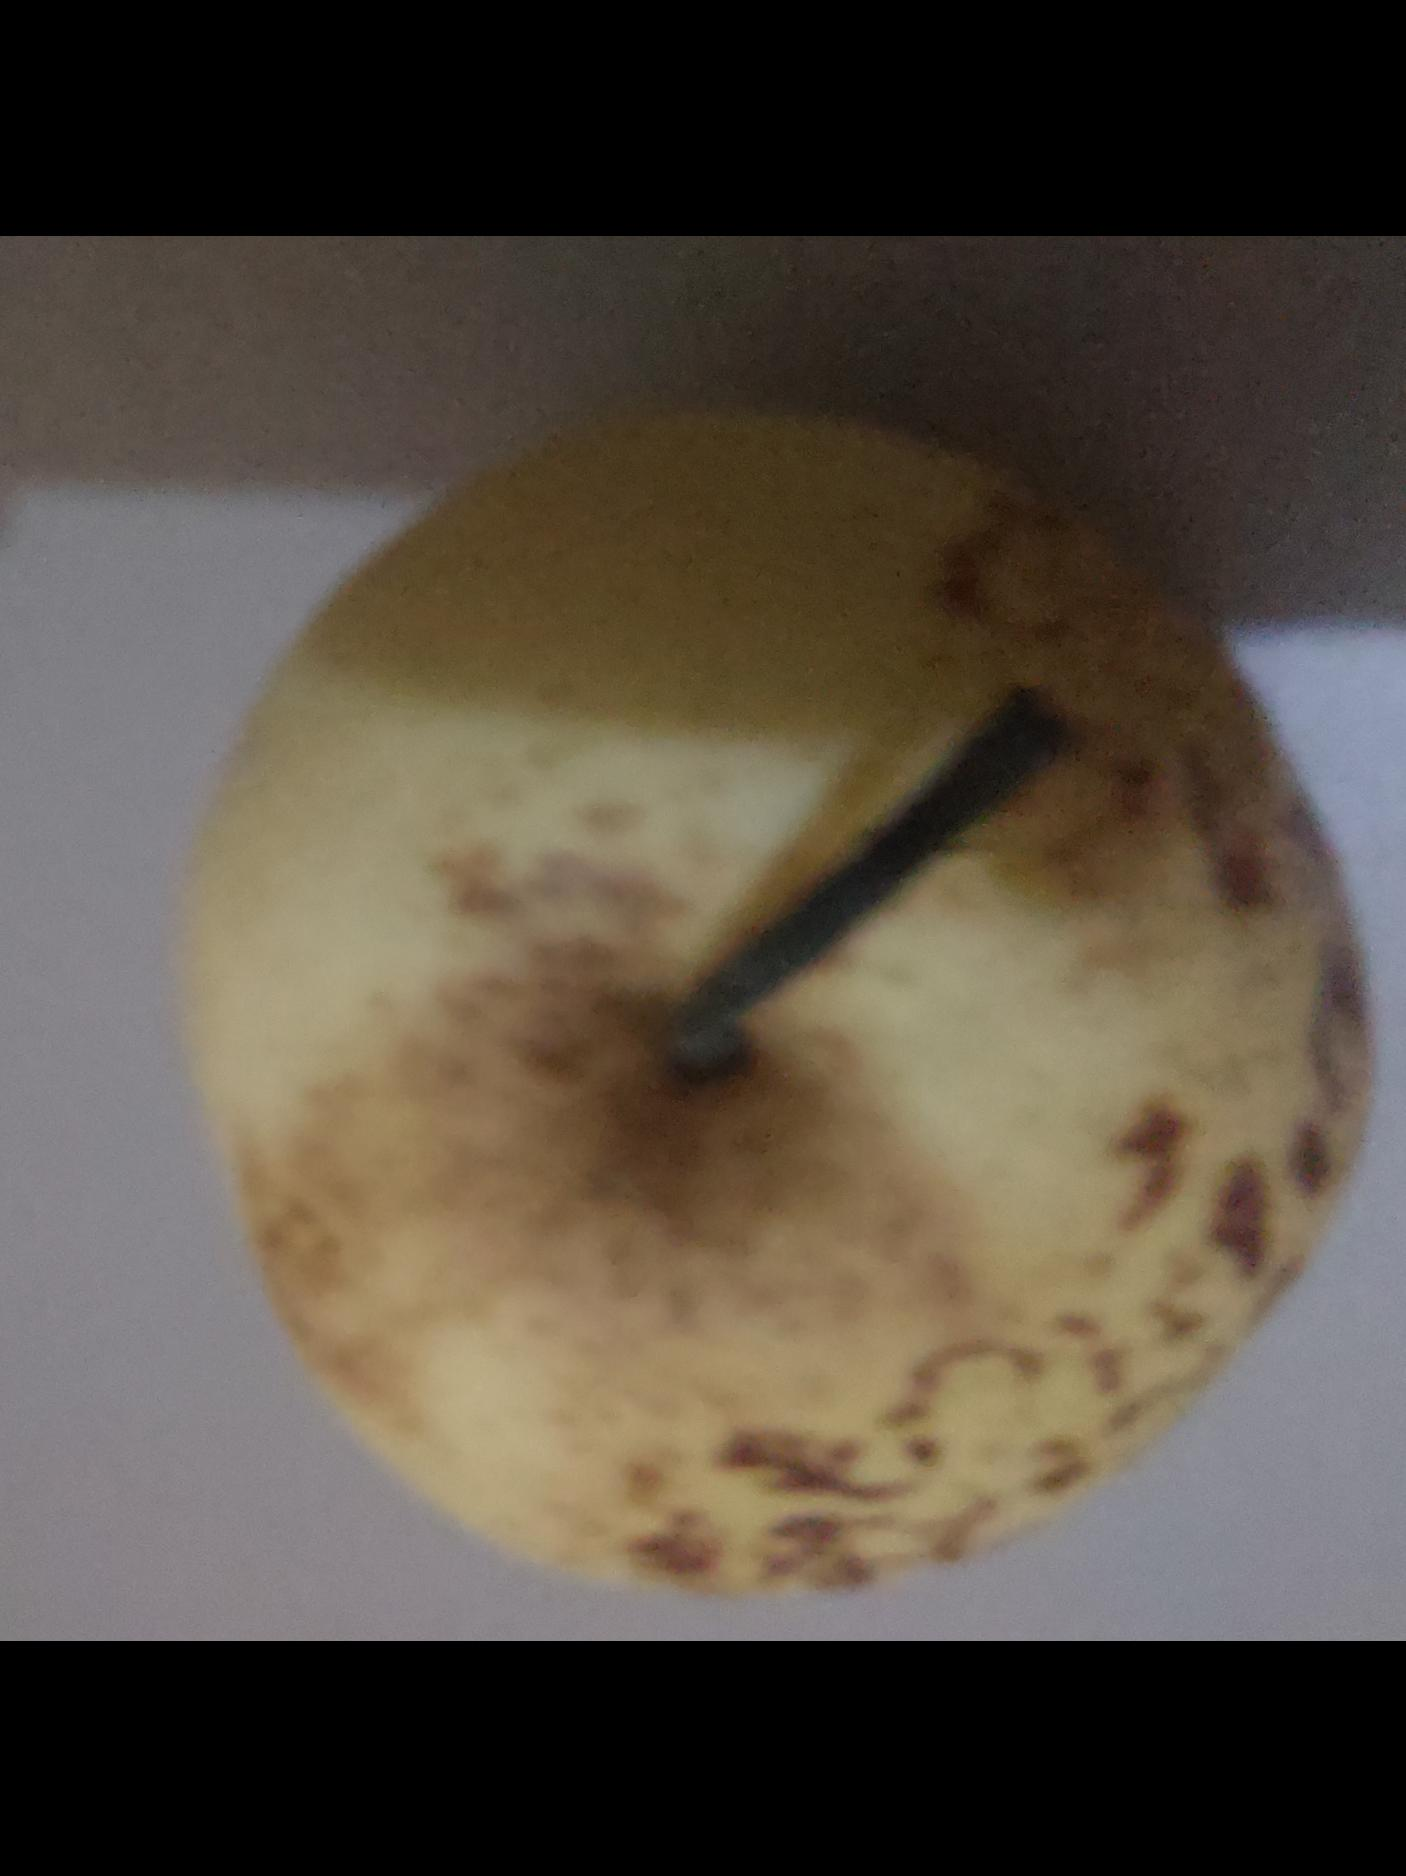Bad Pear: (192, 397, 1381, 1561)
